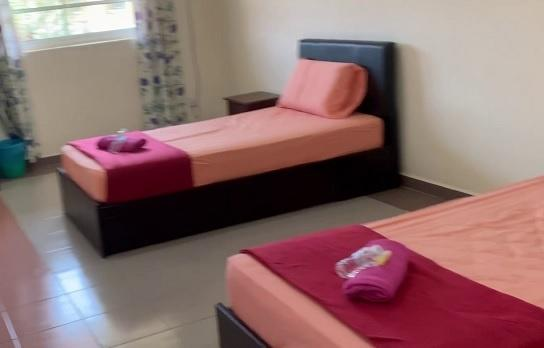bed: (44, 34, 402, 249), (216, 178, 544, 348)
table: (210, 77, 277, 110)
